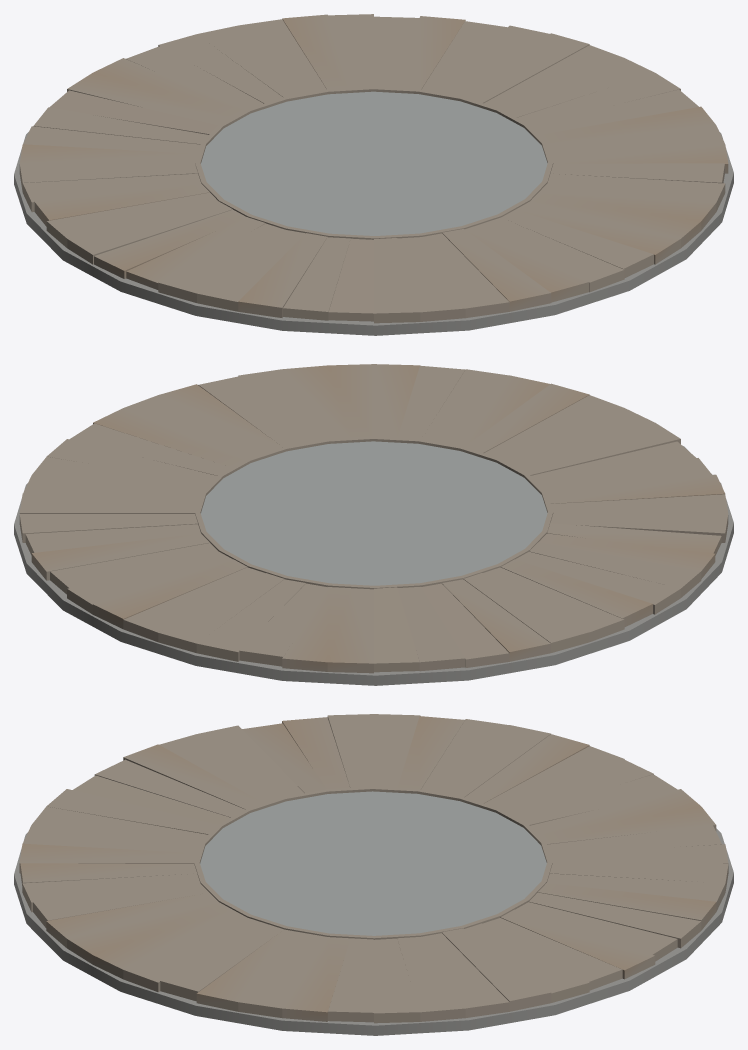
3 renders of one model, top to bottom at view 1: azimuth 30°, elevation 25°; view 2: azimuth 150°, elevation 25°; view 3: azimuth 270°, elevation 25°, orthographic.
Visible parts, largest first — view 1: G:\FFXIV-MapTools\exports\s1f3\bg\ffxiv\sea_s1\fld\s1f3\bgpa (×3); view 2: G:\FFXIV-MapTools\exports\s1f3\bg\ffxiv\sea_s1\fld\s1f3\bgpa (×3); view 3: G:\FFXIV-MapTools\exports\s1f3\bg\ffxiv\sea_s1\fld\s1f3\bgpa (×3).
Part boxes in pixels (x1,y1,x2,y2): G:\FFXIV-MapTools\exports\s1f3\bg\ffxiv\sea_s1\fld\s1f3\bgpa (×3): (14, 14, 733, 335); G:\FFXIV-MapTools\exports\s1f3\bg\ffxiv\sea_s1\fld\s1f3\bgpa (×3): (14, 364, 733, 685); G:\FFXIV-MapTools\exports\s1f3\bg\ffxiv\sea_s1\fld\s1f3\bgpa (×3): (14, 714, 733, 1035).
Bounding box in the file's own units: 16.61 × 0.5417 × 16.6.
